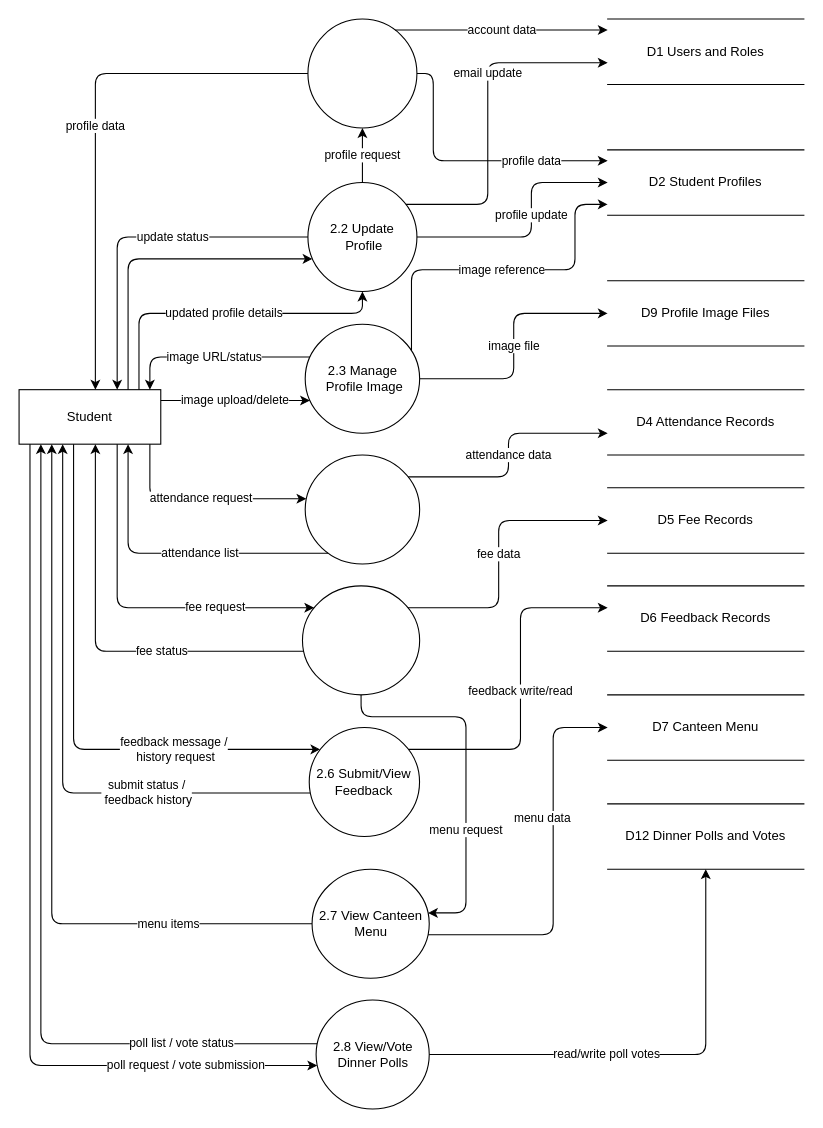
Image size: 823x1128. Some labels were removed from this diagram. Each missing label, with the centre of its shape:
"2.1 View Profile" goes at [362,73].
"2.4 View Attendance" goes at [362,509].
"2.5 View Fee Status" goes at [360,640].
